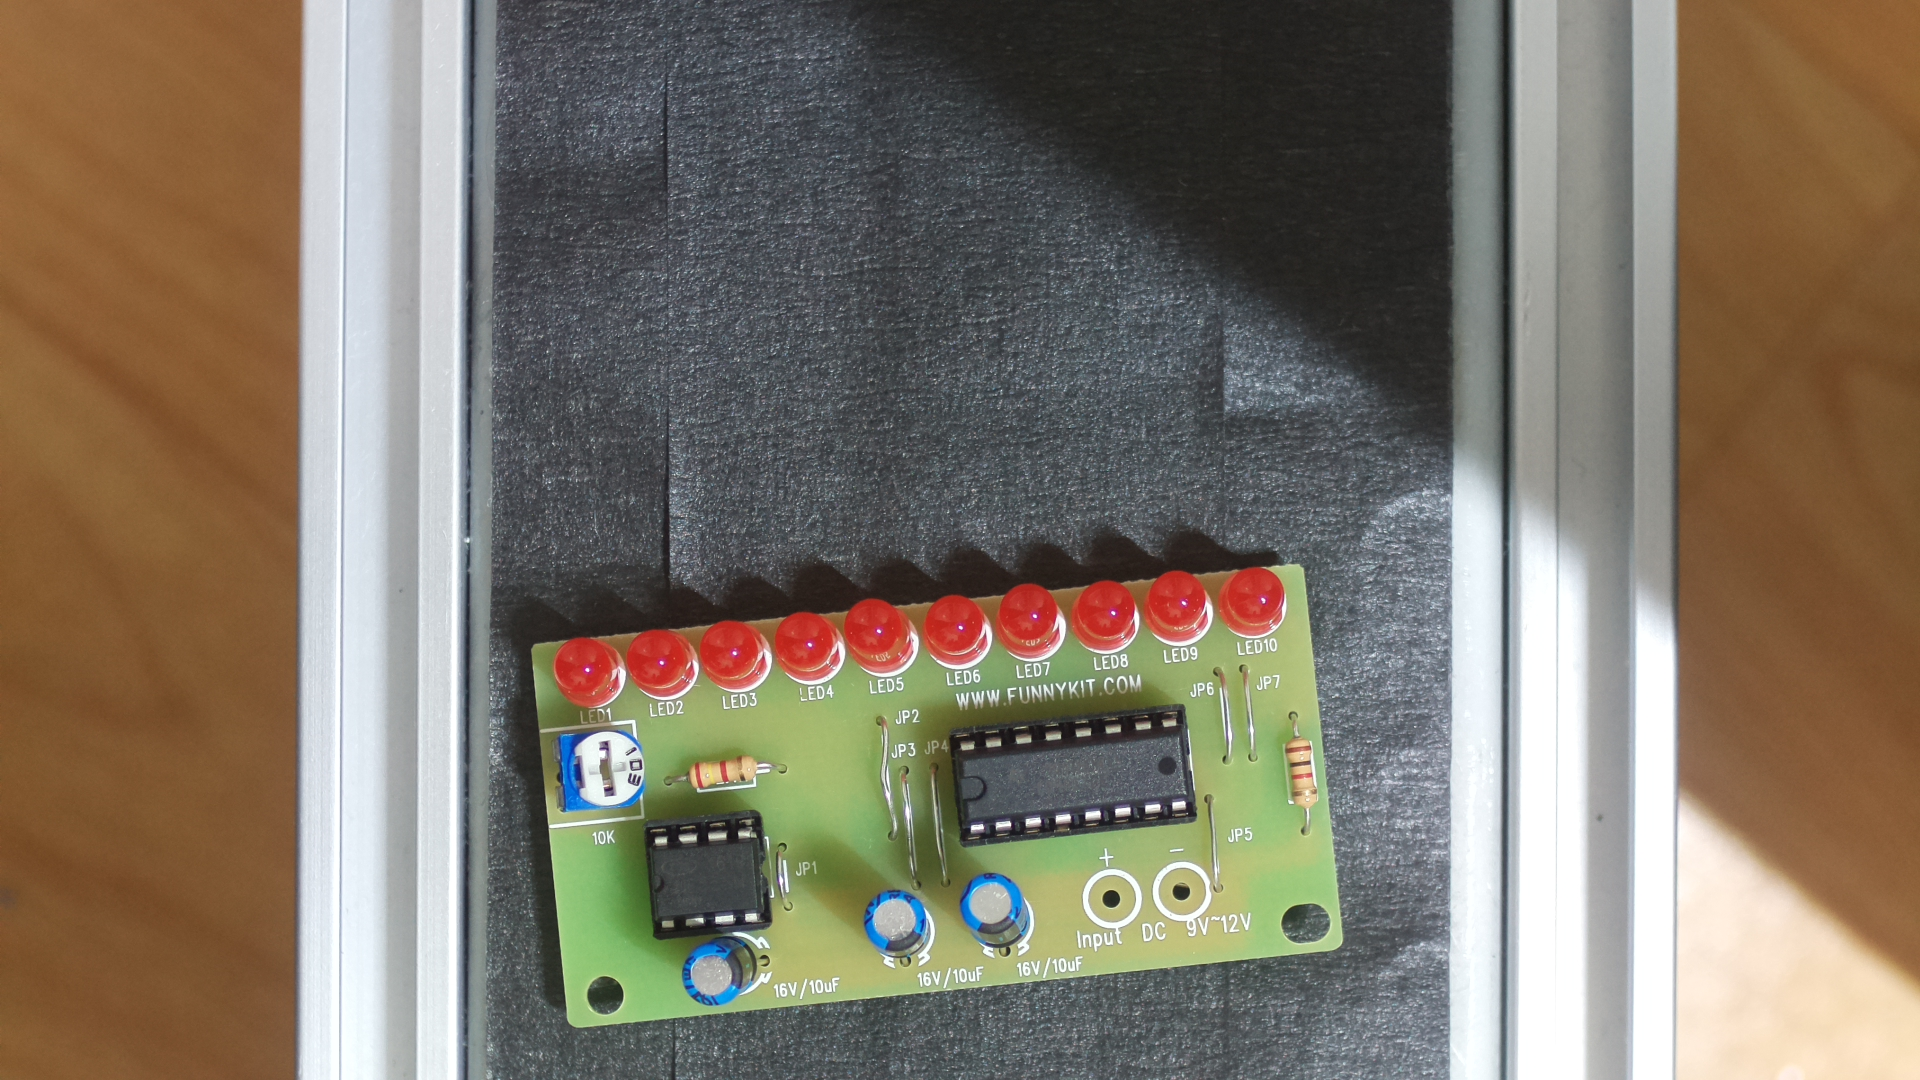B_Normal: (506, 560, 1341, 1050)
